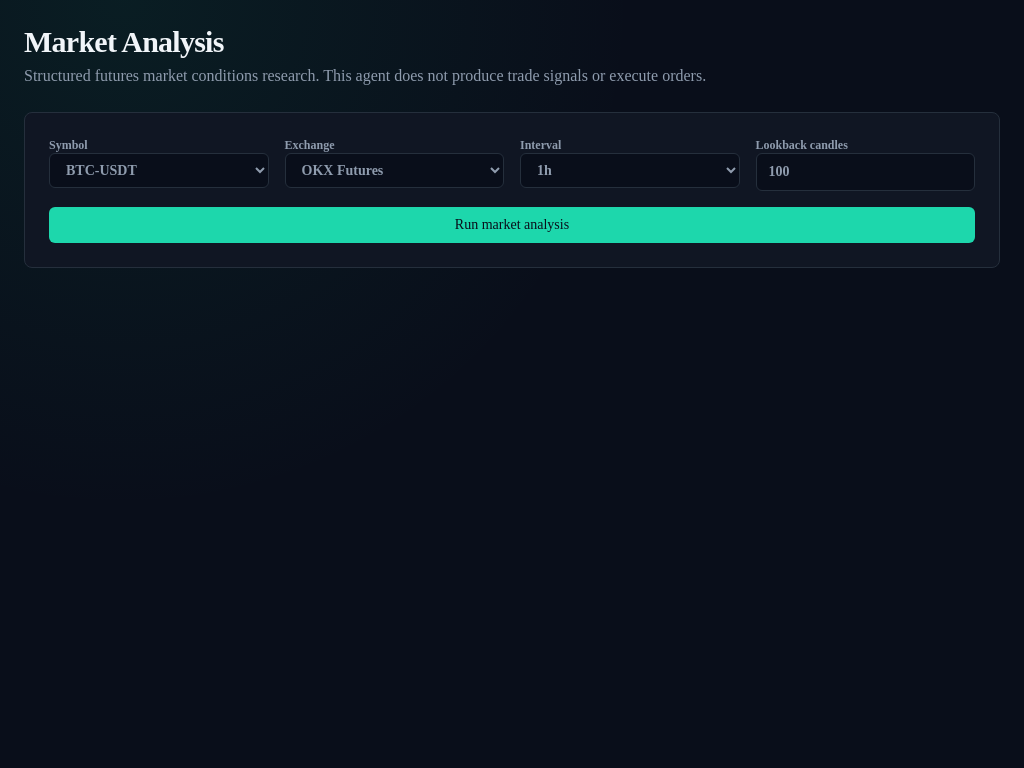
Test: MarketAnalysisPage › runs the market agent and displays every analysis section
This screenshot has width=1024, height=768.
Click the button "Run market analysis" at (512, 225), box [49, 207, 975, 243]
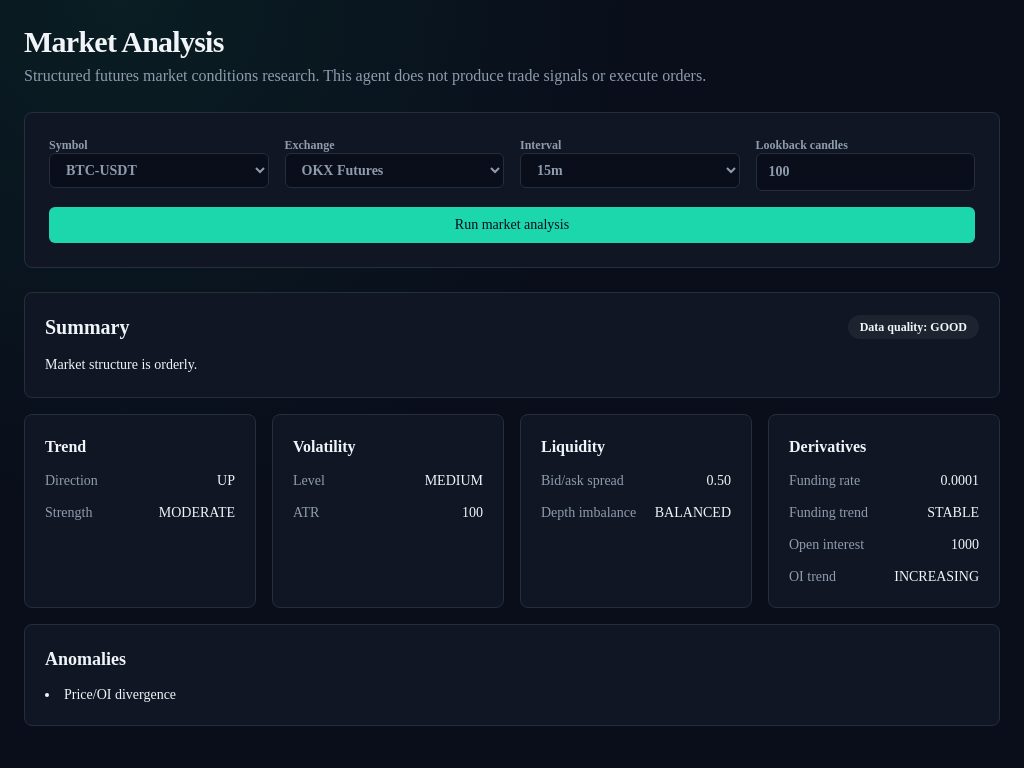
Expected: the text "Market structure is orderly." is shown, [45, 357, 197, 372]
Expected: the heading "Trend" is shown, [45, 438, 86, 455]
Expected: the heading "Volatility" is shown, [293, 438, 356, 455]
